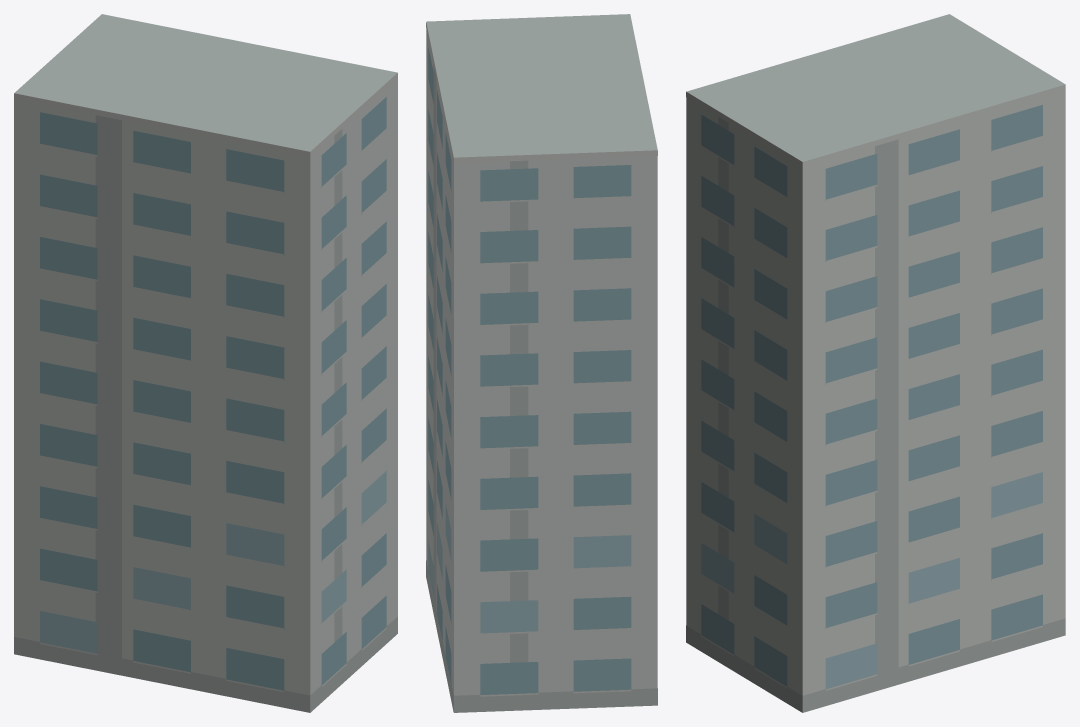
Rendered from residential-8b11a0cf-19a1-4d01-8ff0-262d8a0c7956.glb.
3 views of the same model, side by side, from view 1: azimuth 30°, elevation 25°; view 2: azimuth 150°, elevation 25°; view 3: azimuth 270°, elevation 25° (orthographic).
Parts seen in each view (by area): view 1: residential-8b11a0cf-19a1-4d01-8ff0-262d8a0c7956.tmp; view 2: residential-8b11a0cf-19a1-4d01-8ff0-262d8a0c7956.tmp; view 3: residential-8b11a0cf-19a1-4d01-8ff0-262d8a0c7956.tmp.
Boxes of the visible parts, x1,y1,x2,y2 form: residential-8b11a0cf-19a1-4d01-8ff0-262d8a0c7956.tmp: (14, 14, 397, 712); residential-8b11a0cf-19a1-4d01-8ff0-262d8a0c7956.tmp: (426, 14, 657, 712); residential-8b11a0cf-19a1-4d01-8ff0-262d8a0c7956.tmp: (686, 14, 1065, 712).
Bounding box in the file's own units: 13.84 × 24 × 14.99.
